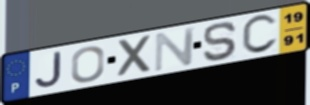C: (240, 13, 280, 56)
J: (33, 50, 64, 90)
N: (153, 25, 198, 74)
O: (69, 44, 106, 84)
S: (202, 20, 240, 63)
X: (116, 33, 154, 80)
